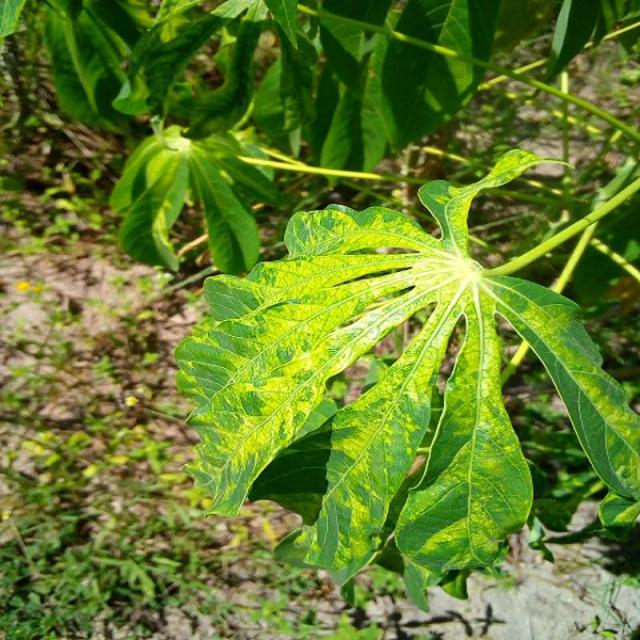cassava leaf: (173, 146, 638, 608)
